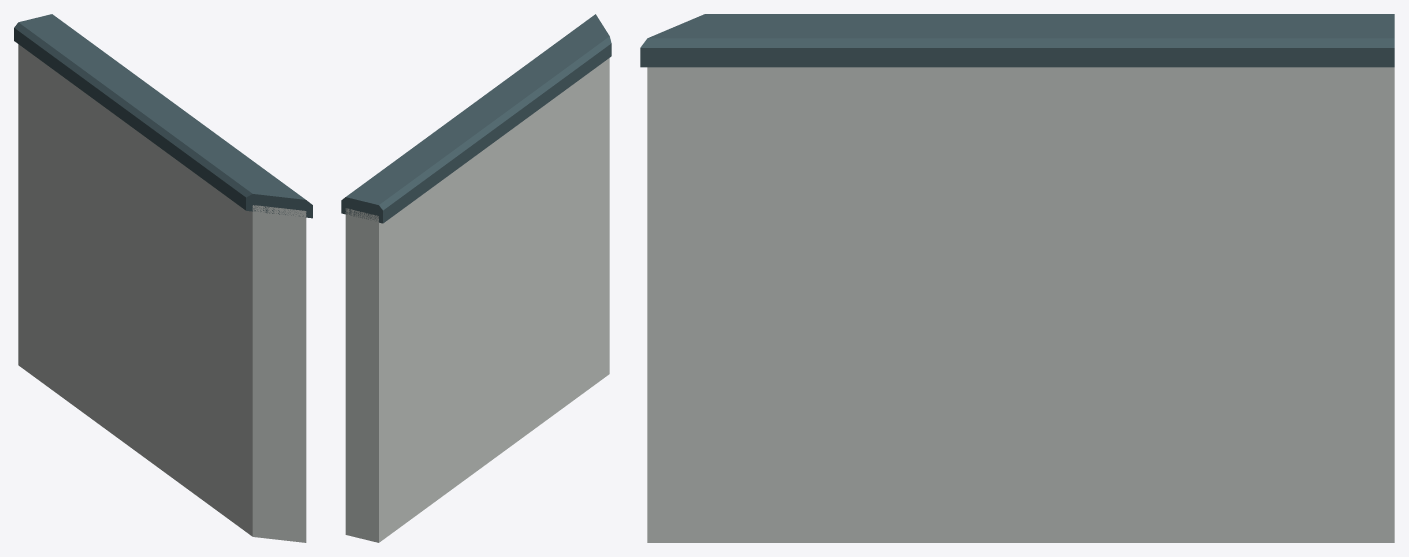
File: halfwall_straight_100cm_miter_10000_-10000_10000_0.glb
3 views of the same model, side by side, from view 1: azimuth 30°, elevation 25°; view 2: azimuth 150°, elevation 25°; view 3: azimuth 270°, elevation 25° (orthographic). The views are drawn at different scales.
Visible parts, largest first — view 1: Seamless solid halfwall.040, Seamless top cap.040; view 2: Seamless solid halfwall.040, Seamless top cap.040; view 3: Seamless solid halfwall.040, Seamless top cap.040.
Boxes of the visible parts, left/top/right/bottom form: Seamless solid halfwall.040: left=18, top=44, right=306, bottom=542; Seamless top cap.040: left=14, top=14, right=312, bottom=218; Seamless solid halfwall.040: left=345, top=58, right=609, bottom=542; Seamless top cap.040: left=341, top=14, right=611, bottom=223; Seamless solid halfwall.040: left=647, top=67, right=1394, bottom=542; Seamless top cap.040: left=640, top=14, right=1394, bottom=67.
Size of the model in its own units: 0.1 by 0.775 by 1.05.
